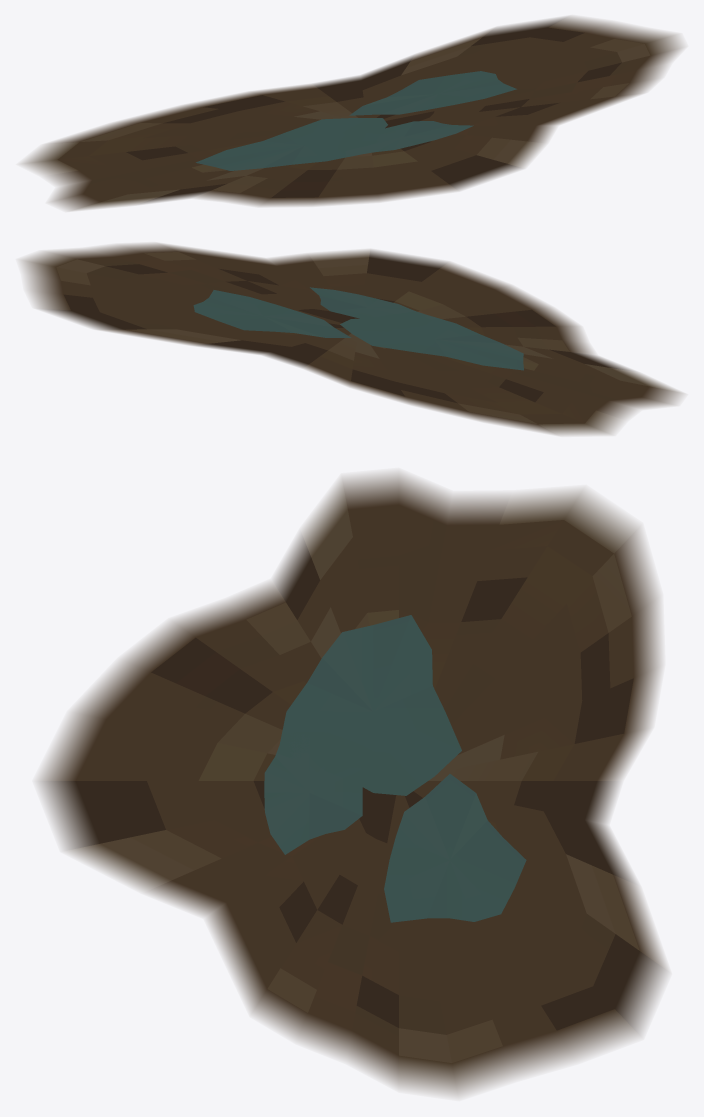
File: swamp_c.glb
3 views of the same model, one above another, from view 1: azimuth 30°, elevation 25°; view 2: azimuth 150°, elevation 25°; view 3: azimuth 270°, elevation 25° (orthographic). The views are drawn at different scales.
Parts seen in each view (by area): view 1: swamp_c; view 2: swamp_c; view 3: swamp_c.
Boxes of the visible parts, left/top/right/bottom form: swamp_c: left=21, top=16, right=683, bottom=210; swamp_c: left=21, top=243, right=683, bottom=435; swamp_c: left=38, top=472, right=667, bottom=1096.
Bounding box in the file's own units: 11.79 × 0.0149 × 5.04.
